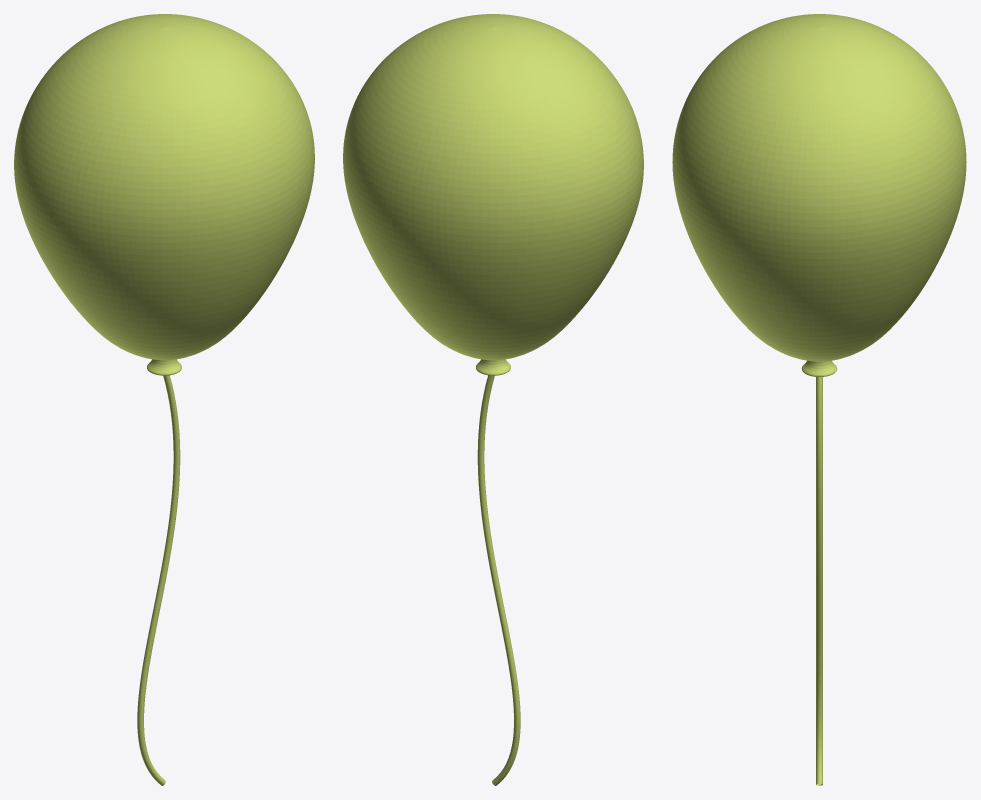
The model's file is Lvl2_balloonlamp_big.fbx.
3 renders of one model, left to right at view 1: azimuth 30°, elevation 25°; view 2: azimuth 150°, elevation 25°; view 3: azimuth 270°, elevation 25°, orthographic.
Parts seen in each view (by area): view 1: Balloon1; view 2: Balloon1; view 3: Balloon1.
Boxes of the visible parts, x1,y1,x2,y2 form: Balloon1: [14, 14, 314, 785]; Balloon1: [343, 14, 643, 785]; Balloon1: [672, 14, 966, 785].
Bounding box in the file's own units: 4.02 × 10.98 × 3.85.
